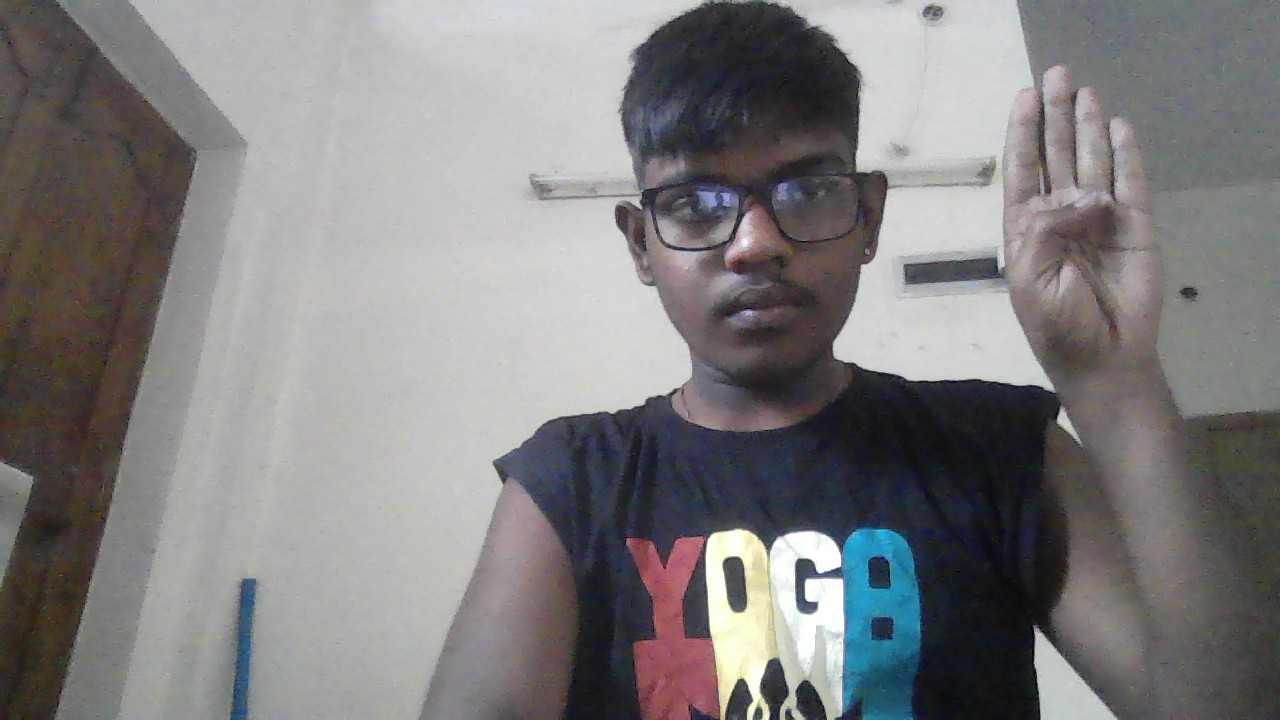B: (1003, 66, 1162, 375)
